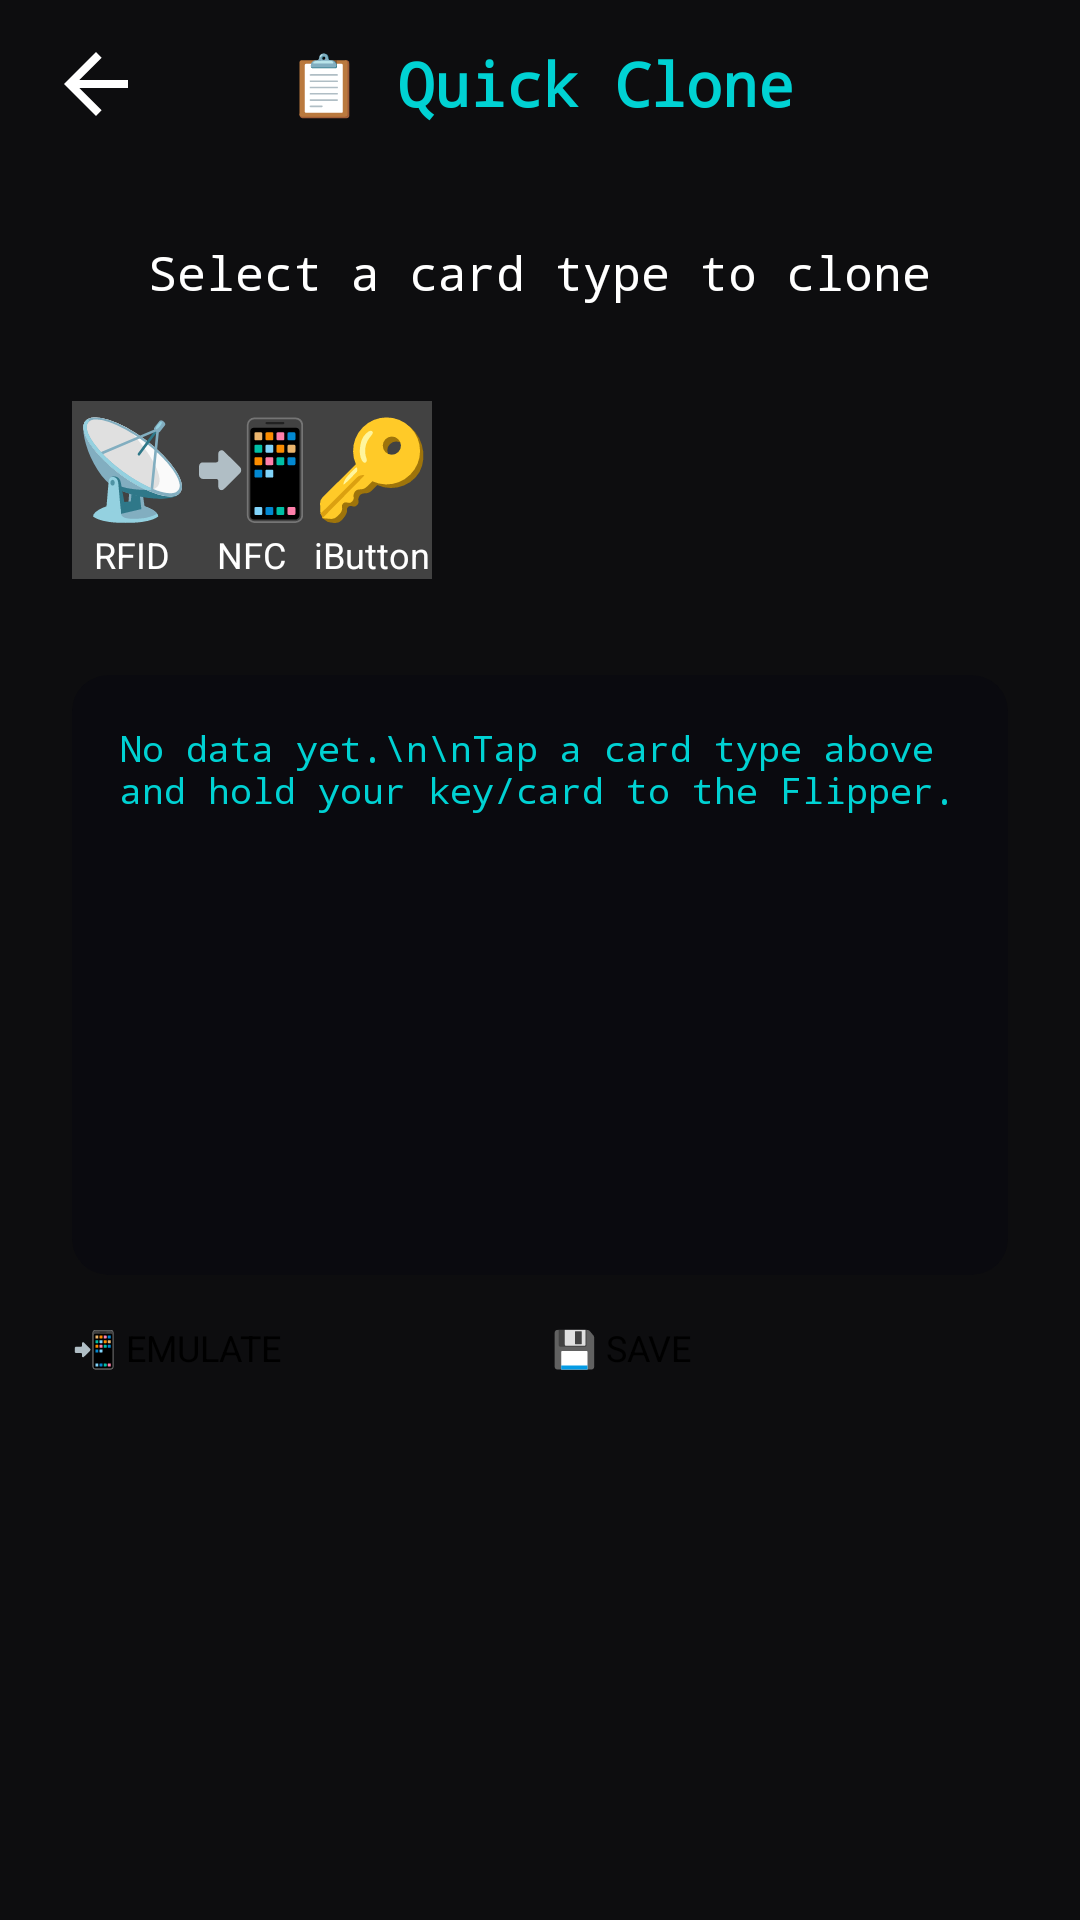

Where icons sit on this 1080x1920 app screen, as (x1, y1, x2, y2):
back: (64, 52, 128, 116)
